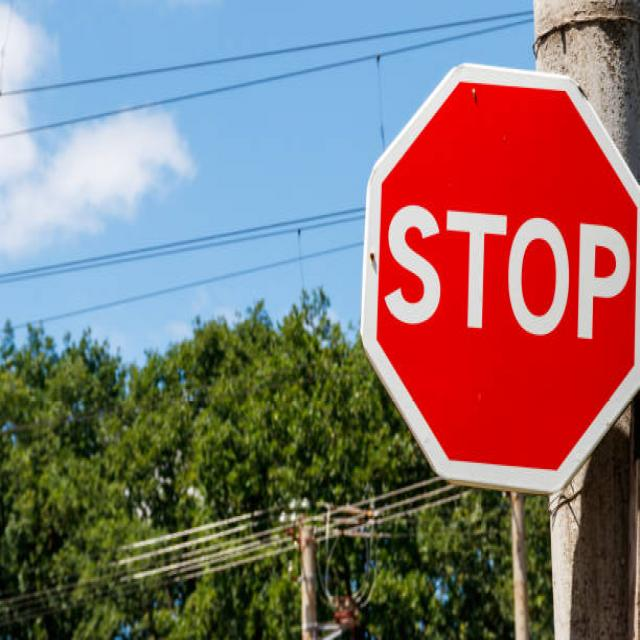stop: (356, 56, 640, 498)
